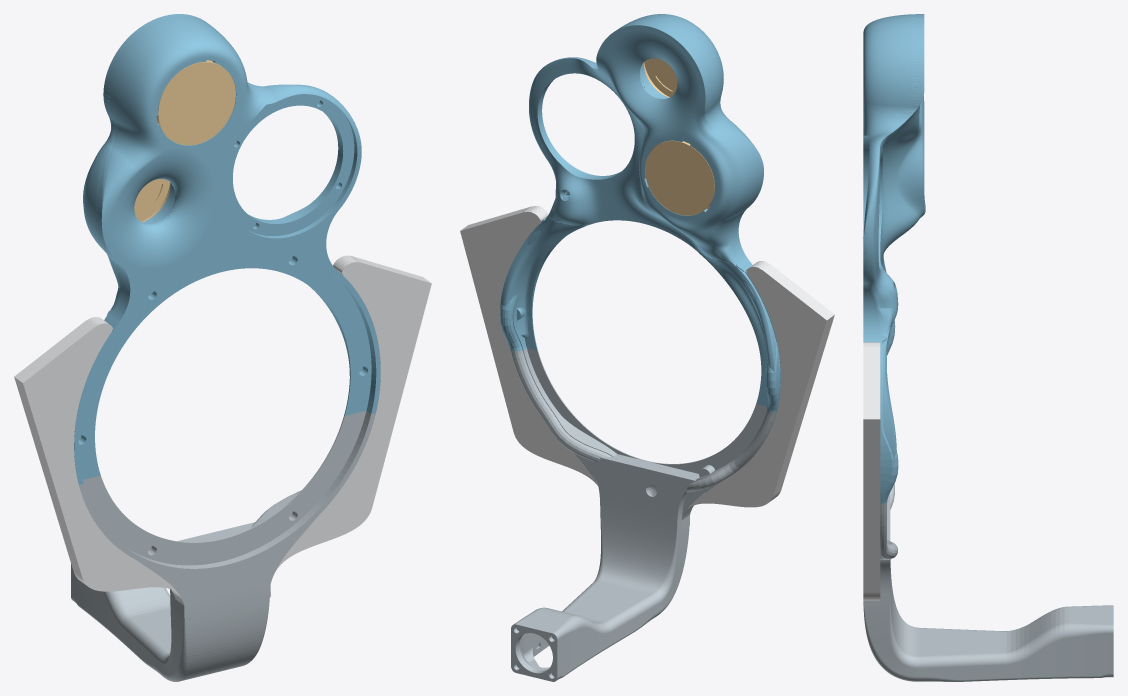
File: H2C_Dayton_ND25FN4_obiwan_tweeters_left_flat_assembly.glb
3 views of the same model, side by side, from view 1: azimuth 30°, elevation 25°; view 2: azimuth 150°, elevation 25°; view 3: azimuth 270°, elevation 25° (orthographic). The views are drawn at different scales.
Visible parts, largest first — view 1: obiwan_nd25fn4_tweeters_left_top, obiwan_lm_keyed_bottom_floor_stand, obiwan_nd25fn4_tweeters_left_wing_flat_left, obiwan_nd25fn4_tweeters_left_wing_flat_right, obiwan_nd25fn4_tweeters_left_cap_rear, obiwan_nd25fn4_tweeters_left_cap_front; view 2: obiwan_nd25fn4_tweeters_left_top, obiwan_lm_keyed_bottom_floor_stand, obiwan_nd25fn4_tweeters_left_wing_flat_left, obiwan_nd25fn4_tweeters_left_wing_flat_right, obiwan_nd25fn4_tweeters_left_cap_front, obiwan_nd25fn4_tweeters_left_cap_rear; view 3: obiwan_nd25fn4_tweeters_left_top, obiwan_lm_keyed_bottom_floor_stand, obiwan_nd25fn4_tweeters_left_wing_flat_right.
Boxes of the visible parts, <box> form: obiwan_nd25fn4_tweeters_left_top: <box>74,14,380,485</box>; obiwan_lm_keyed_bottom_floor_stand: <box>71,410,375,681</box>; obiwan_nd25fn4_tweeters_left_wing_flat_left: <box>14,317,181,598</box>; obiwan_nd25fn4_tweeters_left_wing_flat_right: <box>275,255,431,571</box>; obiwan_nd25fn4_tweeters_left_cap_rear: <box>156,60,235,145</box>; obiwan_nd25fn4_tweeters_left_cap_front: <box>134,179,170,221</box>; obiwan_nd25fn4_tweeters_left_top: <box>500,14,780,412</box>; obiwan_lm_keyed_bottom_floor_stand: <box>510,348,776,681</box>; obiwan_nd25fn4_tweeters_left_wing_flat_left: <box>685,261,834,513</box>; obiwan_nd25fn4_tweeters_left_wing_flat_right: <box>460,206,597,485</box>; obiwan_nd25fn4_tweeters_left_cap_front: <box>645,140,714,215</box>; obiwan_nd25fn4_tweeters_left_cap_rear: <box>643,58,677,97</box>; obiwan_nd25fn4_tweeters_left_top: <box>863,14,925,503</box>; obiwan_lm_keyed_bottom_floor_stand: <box>863,484,1113,681</box>; obiwan_nd25fn4_tweeters_left_wing_flat_right: <box>863,342,880,600</box>.
Size of the model in its own units: 0.304 by 0.469 by 0.1683.
